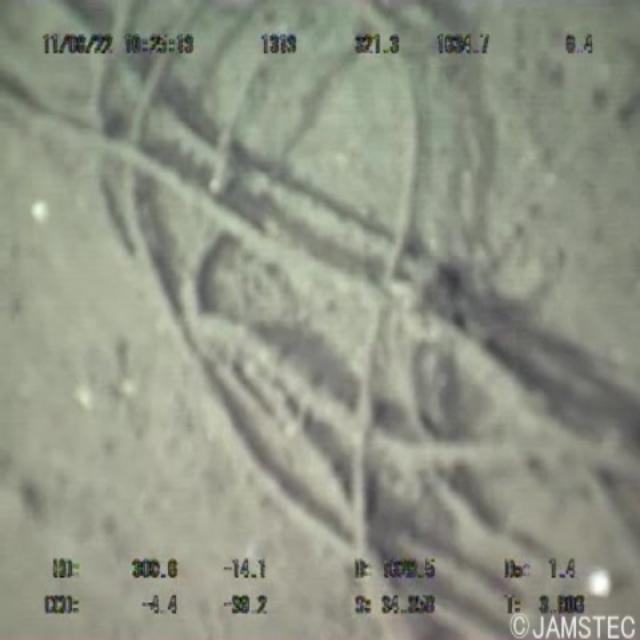Rope: (38, 10, 640, 628)
